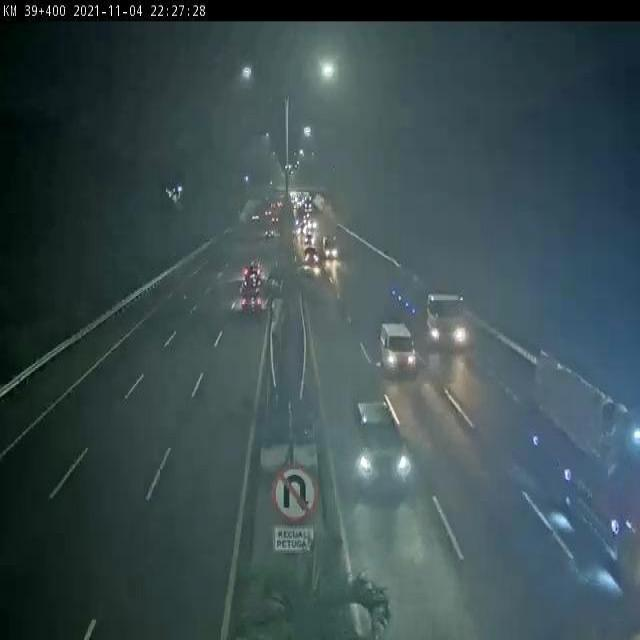car: (349, 401, 412, 496), (379, 322, 417, 374), (240, 265, 263, 295), (240, 292, 266, 317)
truck-l-: (532, 349, 640, 579)
truck-xl-: (389, 266, 467, 346)
